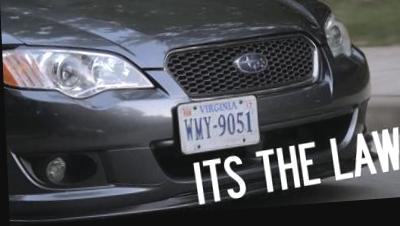License_Plate: (174, 98, 258, 149)
